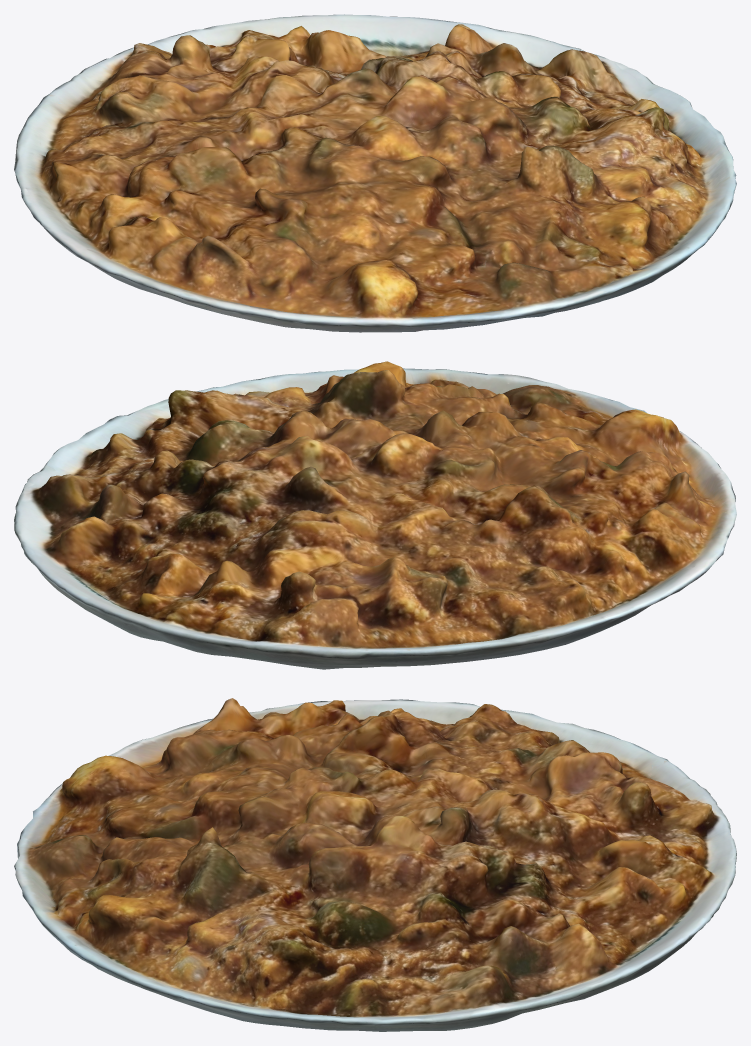
3 renders of one model, top to bottom at view 1: azimuth 30°, elevation 25°; view 2: azimuth 150°, elevation 25°; view 3: azimuth 270°, elevation 25°, orthographic.
Visible parts, largest first — view 1: 3DModel; view 2: 3DModel; view 3: 3DModel.
Boxes of the visible parts, x1,y1,x2,y2 form: 3DModel: [14, 14, 736, 332]; 3DModel: [14, 361, 736, 669]; 3DModel: [14, 698, 736, 1031].
Bounding box in the file's own units: 0.6677 × 0.1262 × 0.6655.
Materials: 1 (1 with a texture image).
